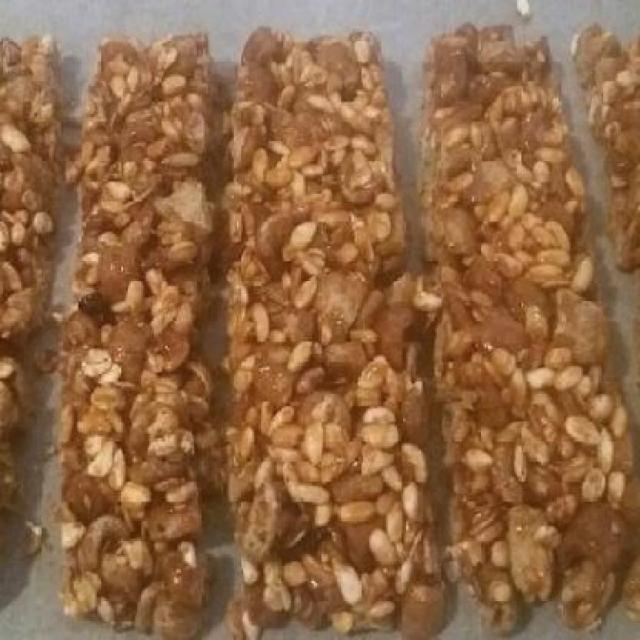Cereal bar packaged: (228, 30, 448, 636), (420, 30, 638, 638), (53, 35, 215, 632)
